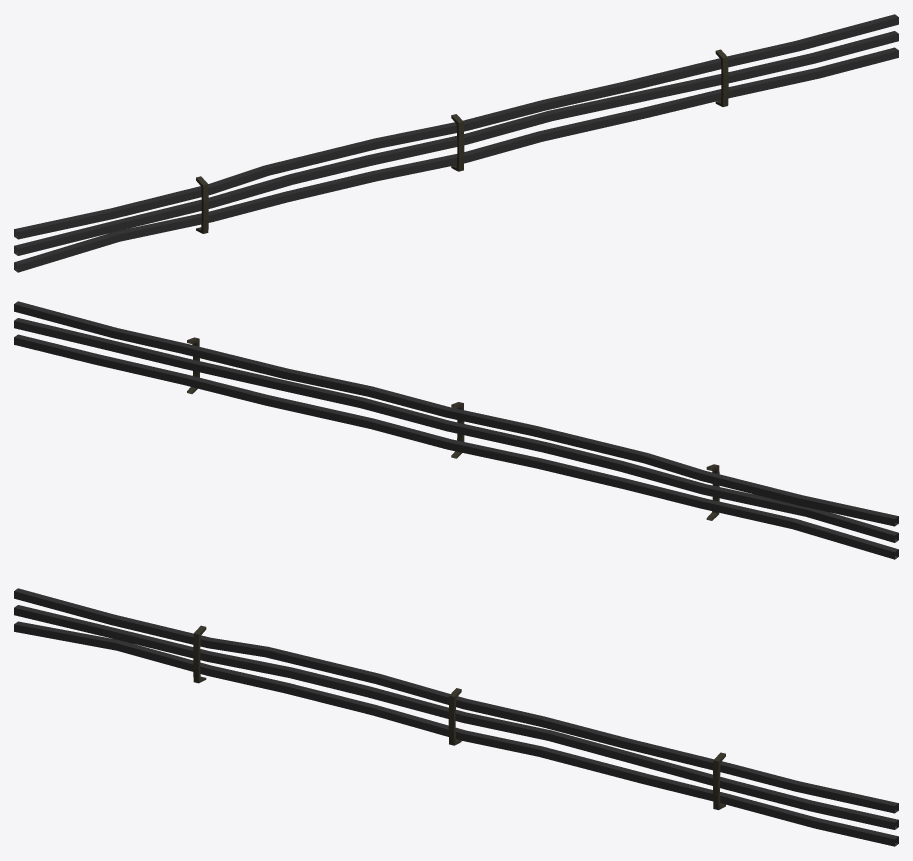
The model's file is SW_ENV_Wires3_FlatWall_03_05m.fbx.
The picture shows the model from 3 angles, top to bottom: view 1: azimuth 30°, elevation 25°; view 2: azimuth 150°, elevation 25°; view 3: azimuth 330°, elevation 25°; orthographic projection.
Parts seen in each view (by area): view 1: SW_ENV_Wires3_FlatWall_03_05m; view 2: SW_ENV_Wires3_FlatWall_03_05m; view 3: SW_ENV_Wires3_FlatWall_03_05m.
Boxes of the visible parts, box(x1,y1,x2,y2) form: SW_ENV_Wires3_FlatWall_03_05m: box(14, 14, 898, 272); SW_ENV_Wires3_FlatWall_03_05m: box(14, 301, 898, 559); SW_ENV_Wires3_FlatWall_03_05m: box(14, 588, 898, 846).
Size of the model in its own units: 500 by 28.66 by 7.57.
